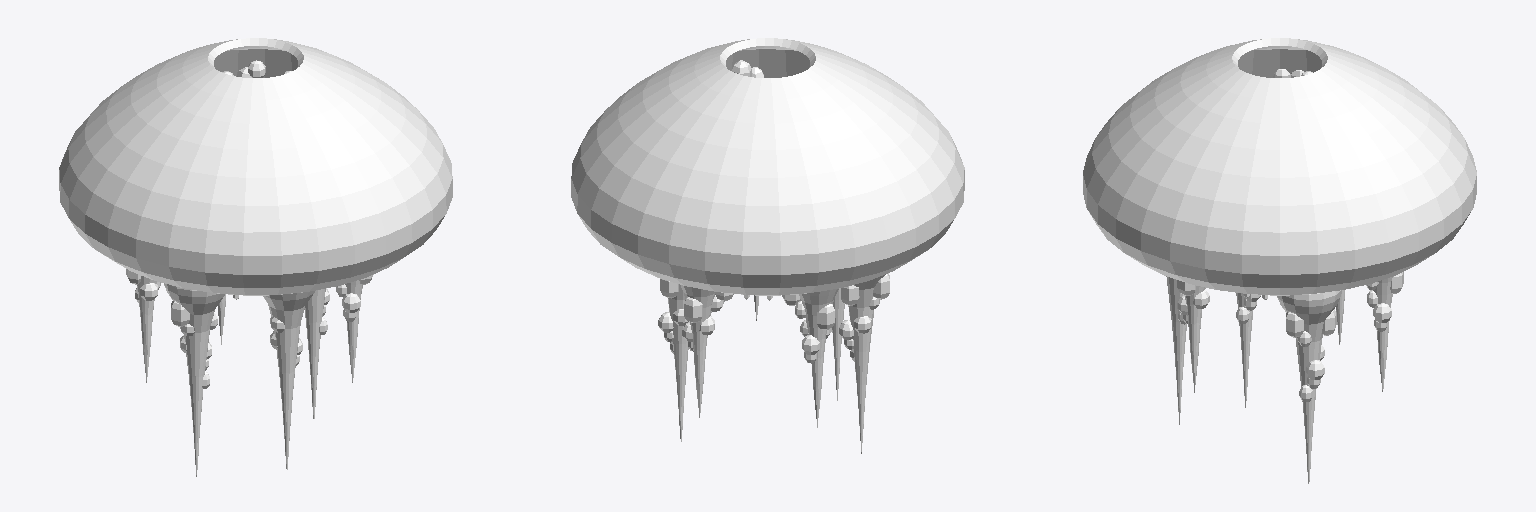
The model's file is Rlaan_Commerce_Center.obj.
3 renders of one model, left to right at view 1: azimuth 30°, elevation 25°; view 2: azimuth 150°, elevation 25°; view 3: azimuth 270°, elevation 25°, orthographic.
Parts seen in each view (by area): view 1: Mesh.001_Mesh.004_sphere8_sep5; view 2: Mesh.001_Mesh.004_sphere8_sep5; view 3: Mesh.001_Mesh.004_sphere8_sep5.
Part boxes in pixels (x1,y1,x2,y2): Mesh.001_Mesh.004_sphere8_sep5: (59, 38, 452, 476); Mesh.001_Mesh.004_sphere8_sep5: (571, 38, 964, 453); Mesh.001_Mesh.004_sphere8_sep5: (1083, 38, 1476, 483).
Size of the model in its own units: 32.07 by 35.47 by 32.07.